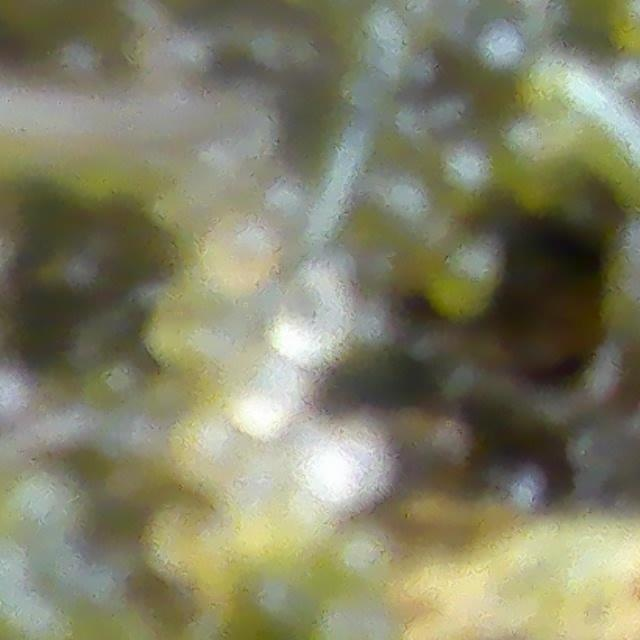SeaGrape: (260, 272, 351, 363), (0, 461, 85, 550), (199, 218, 283, 305), (313, 416, 392, 505), (229, 368, 303, 449), (329, 519, 397, 589)
